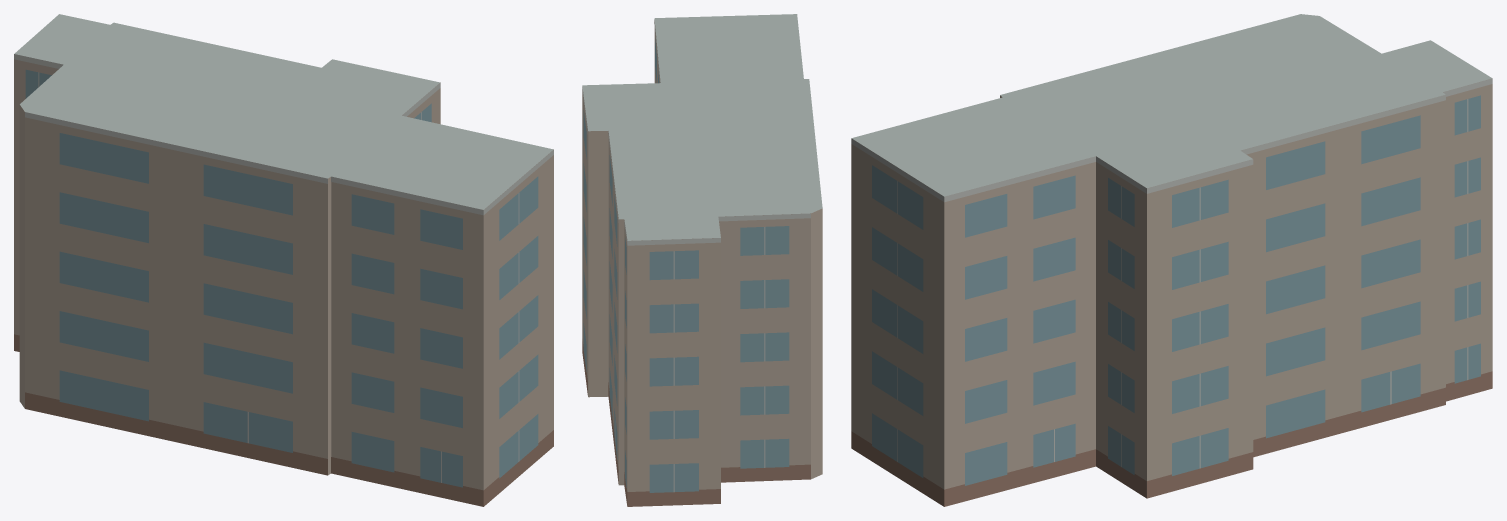
The model's file is survey-upis-32592385.glb.
3 views of the same model, side by side, from view 1: azimuth 30°, elevation 25°; view 2: azimuth 150°, elevation 25°; view 3: azimuth 270°, elevation 25° (orthographic). The views are drawn at different scales.
Parts seen in each view (by area): view 1: survey-upis-32592385.tmp; view 2: survey-upis-32592385.tmp; view 3: survey-upis-32592385.tmp.
Part boxes in pixels (box(x1,y1,x2,y2)): survey-upis-32592385.tmp: box(14, 14, 553, 506); survey-upis-32592385.tmp: box(582, 14, 822, 506); survey-upis-32592385.tmp: box(851, 14, 1492, 506).
Size of the model in its own units: 17.06 by 13.5 by 25.3.
